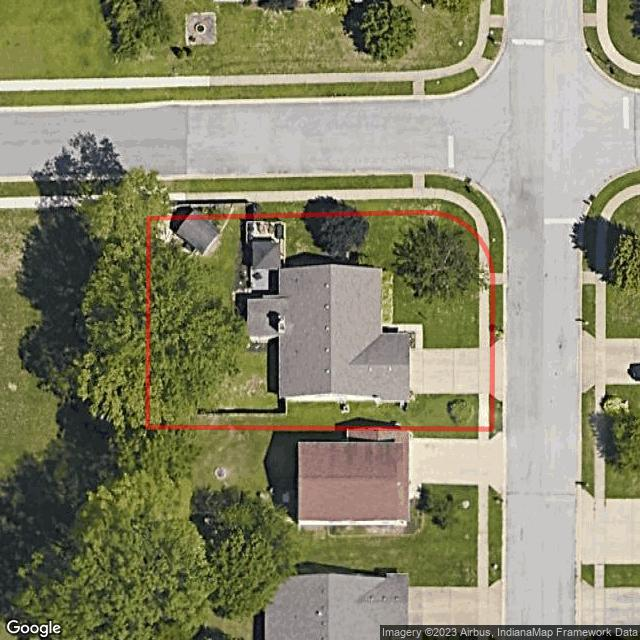Driveway: (410, 348, 490, 394)
Extra Driveway: (494, 336, 503, 403)
Extra Lawn: (229, 198, 479, 234), (425, 175, 503, 273), (146, 176, 413, 194), (495, 285, 503, 344), (146, 204, 176, 217), (494, 398, 503, 431)
Extra Sidewalk: (147, 174, 489, 249), (495, 273, 504, 285)
House: (248, 264, 410, 402)
Other: (247, 221, 284, 299), (176, 220, 218, 252), (172, 203, 234, 215), (341, 402, 349, 413)
Sidewalk: (381, 272, 422, 348), (479, 244, 490, 348), (479, 394, 489, 427)
